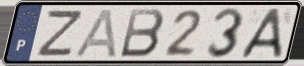2: (163, 8, 203, 58)
3: (205, 6, 246, 60)
A: (238, 7, 285, 60), (73, 7, 119, 59)
B: (118, 7, 167, 59)
Z: (33, 9, 87, 58)
